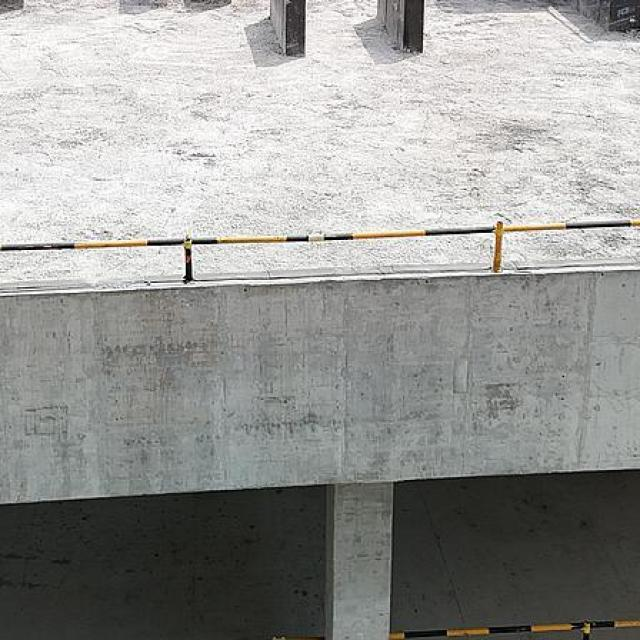Guardrail: (0, 217, 640, 287), (388, 618, 640, 640), (269, 634, 324, 640)
